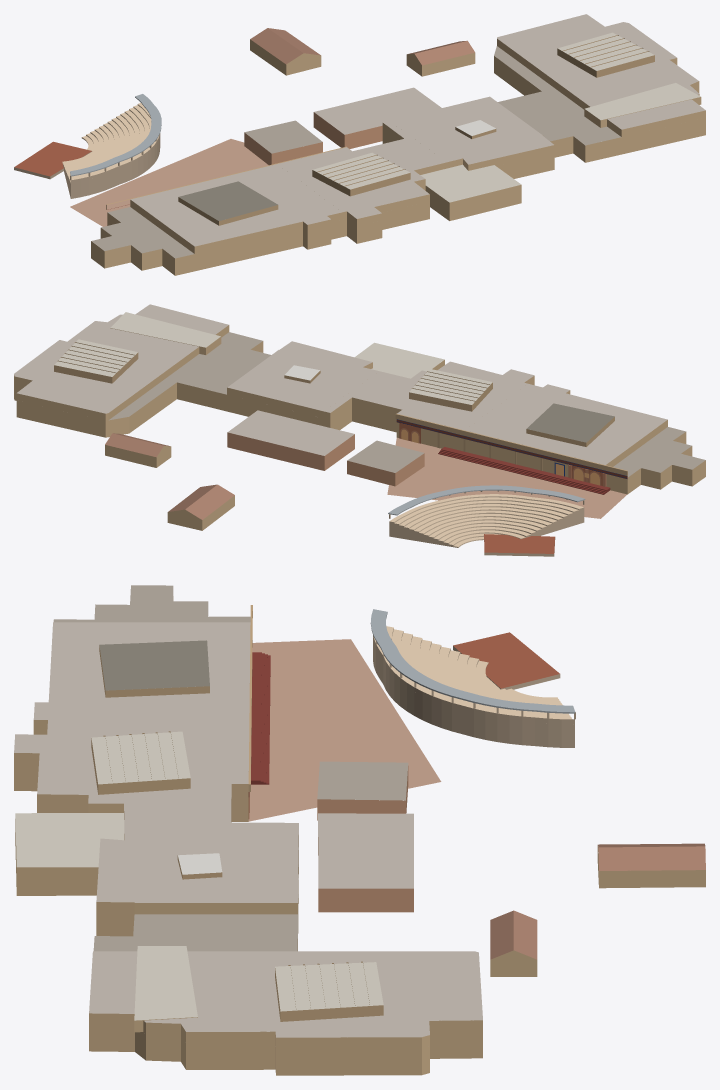
The model's file is lok_virsa.glb.
The picture shows the model from 3 angles, top to bottom: view 1: azimuth 30°, elevation 25°; view 2: azimuth 150°, elevation 25°; view 3: azimuth 270°, elevation 25°; orthographic projection. The views are drawn at different scales.
Visible parts, largest first — view 1: m_roof_main, m_wall_cream, m_roof_monitor, m_roof_low, m_court_paving, m_fascia_cream, m_amph_seat, m_roof_monitor_dark, m_roof_terracotta, m_amph_wall, m_wall_peach, m_amph_stage (+1 smaller); view 2: m_roof_main, m_wall_cream, m_roof_low, m_roof_monitor, m_amph_seat, m_court_paving, m_fascia_cream, m_wall_peach, m_roof_monitor_dark, m_roof_terracotta, m_steps_maroon, m_amph_wall (+5 smaller); view 3: m_roof_main, m_wall_cream, m_court_paving, m_roof_monitor, m_roof_low, m_amph_wall, m_amph_seat, m_roof_monitor_dark, m_roof_terracotta, m_fascia_cream, m_wall_peach, m_amph_stage (+3 smaller).
Boxes of the visible parts, left/top/right/bottom form: m_roof_main: left=130, top=14, right=705, bottom=246; m_wall_cream: left=91, top=39, right=705, bottom=275; m_roof_monitor: left=312, top=32, right=700, bottom=202; m_roof_low: left=91, top=46, right=621, bottom=258; m_court_paving: left=70, top=139, right=268, bottom=226; m_fascia_cream: left=106, top=35, right=654, bottom=225; m_amph_seat: left=62, top=103, right=159, bottom=182; m_roof_monitor_dark: left=179, top=181, right=277, bottom=220; m_roof_terracotta: left=250, top=28, right=474, bottom=65; m_amph_wall: left=14, top=133, right=160, bottom=198; m_wall_peach: left=244, top=112, right=382, bottom=165; m_amph_stage: left=14, top=141, right=91, bottom=176; m_roof_main: left=14, top=304, right=667, bottom=464; m_wall_cream: left=14, top=325, right=705, bottom=530; m_roof_low: left=109, top=332, right=705, bottom=477; m_roof_monitor: left=54, top=312, right=492, bottom=404; m_amph_seat: left=389, top=494, right=583, bottom=547; m_court_paving: left=387, top=437, right=627, bottom=518; m_fascia_cream: left=54, top=342, right=627, bottom=475; m_wall_peach: left=227, top=432, right=424, bottom=486; m_roof_monitor_dark: left=526, top=403, right=614, bottom=442; m_roof_terracotta: left=105, top=433, right=234, bottom=519; m_steps_maroon: left=438, top=447, right=610, bottom=494; m_amph_wall: left=389, top=490, right=584, bottom=556; m_roof_main: left=14, top=622, right=482, bottom=1037; m_wall_cream: left=14, top=596, right=705, bottom=1075; m_court_paving: left=248, top=639, right=441, bottom=821; m_roof_monitor: left=15, top=731, right=383, bottom=1020; m_roof_low: left=53, top=585, right=408, bottom=951; m_amph_wall: left=373, top=635, right=575, bottom=747; m_amph_seat: left=373, top=626, right=572, bottom=719; m_roof_monitor_dark: left=99, top=640, right=209, bottom=690; m_roof_terracotta: left=490, top=843, right=705, bottom=959; m_fascia_cream: left=91, top=605, right=383, bottom=1021; m_wall_peach: left=317, top=766, right=413, bottom=912; m_amph_stage: left=453, top=632, right=559, bottom=688.
Size of the model in its own units: 210 by 10.4 by 132.
